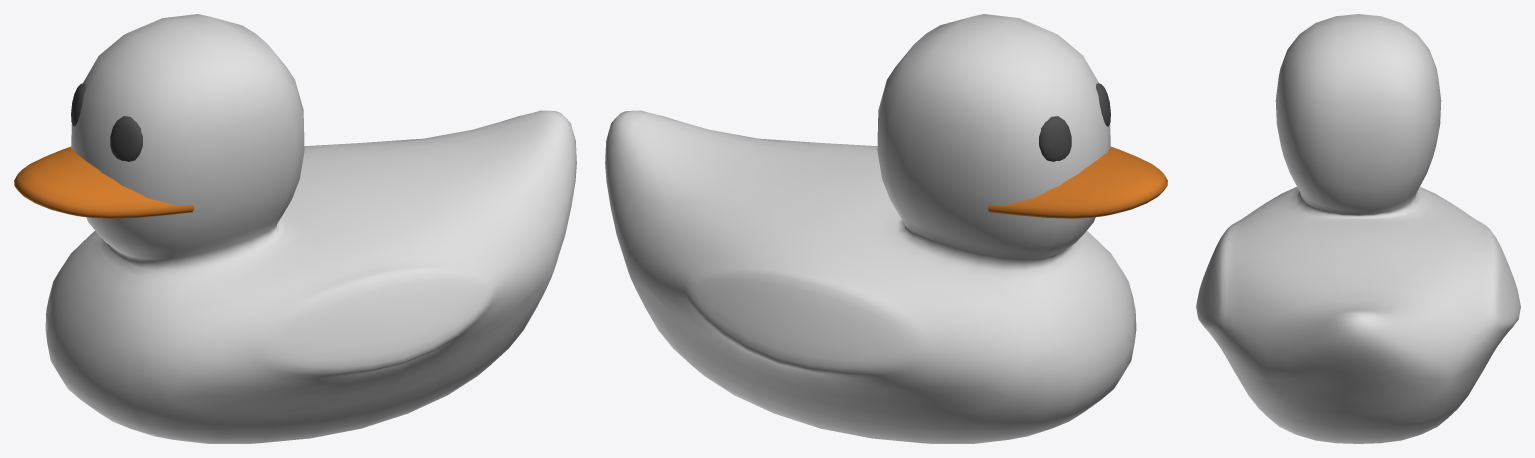
The model's file is duck.fbx.
3 renders of one model, left to right at view 1: azimuth 30°, elevation 25°; view 2: azimuth 150°, elevation 25°; view 3: azimuth 270°, elevation 25°, orthographic. The views are drawn at different scales.
Parts seen in each view (by area): view 1: Cube; view 2: Cube; view 3: Cube.
Boxes of the visible parts, x1,y1,x2,y2 form: Cube: [14, 14, 576, 443]; Cube: [605, 14, 1167, 443]; Cube: [1196, 14, 1520, 443].
Bounding box in the file's own units: 599 × 424 × 373.
